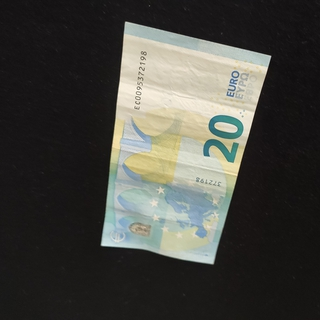20EUROBack: (100, 21, 272, 265)
